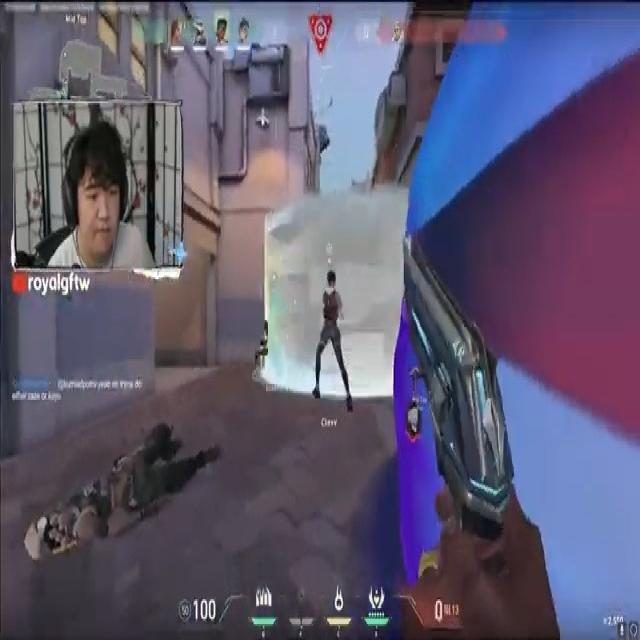ally: (311, 264, 356, 411)
smoke: (401, 0, 640, 624), (616, 4, 640, 28)
